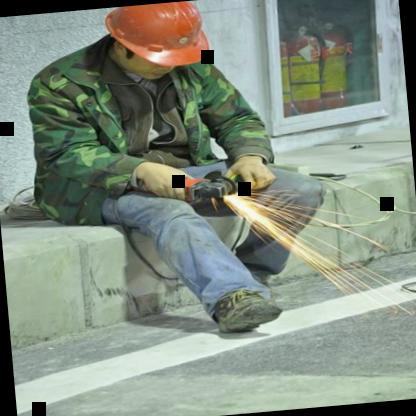helmet: (92, 0, 225, 90)
